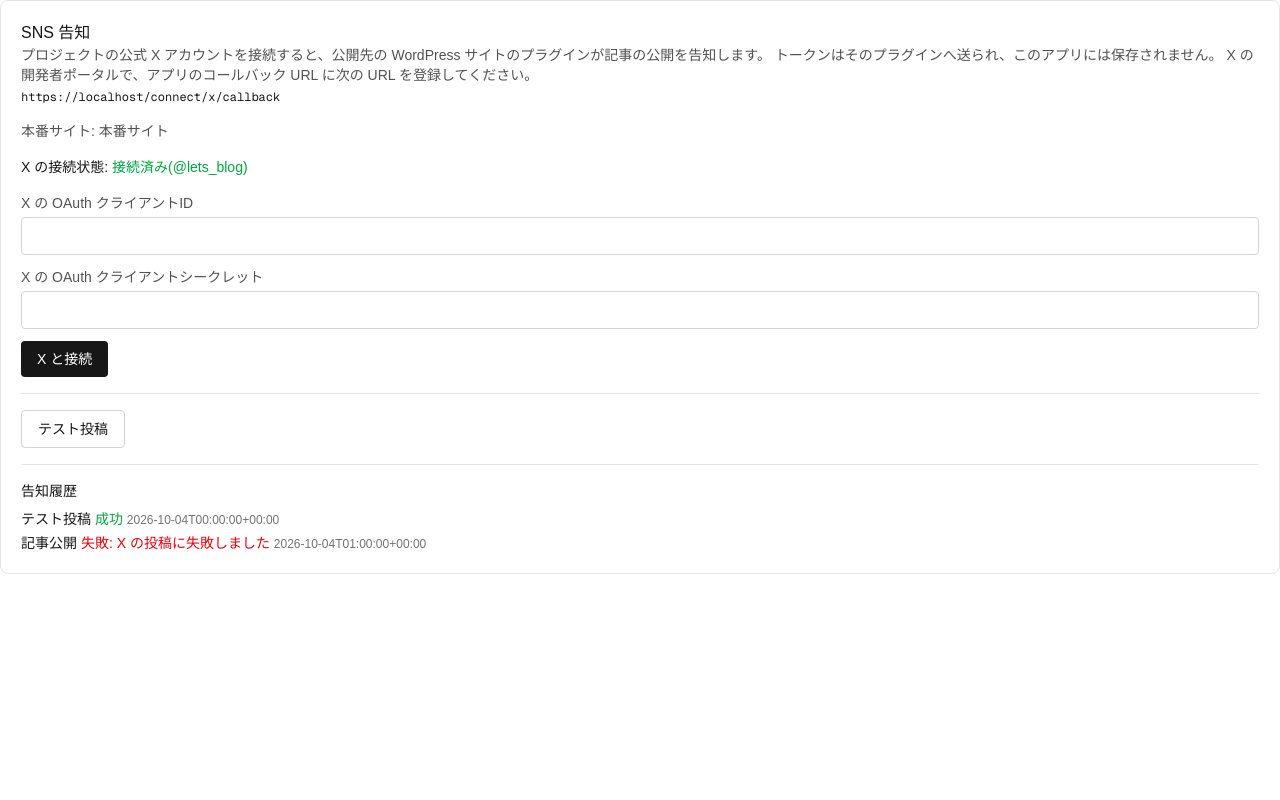
Test case: ProjectSnsXSection › テスト投稿が失敗したら理由を示す
The width and height of the screenshot is (1280, 800).
Click the button "テスト投稿": (73, 429) [21,410,125,448]
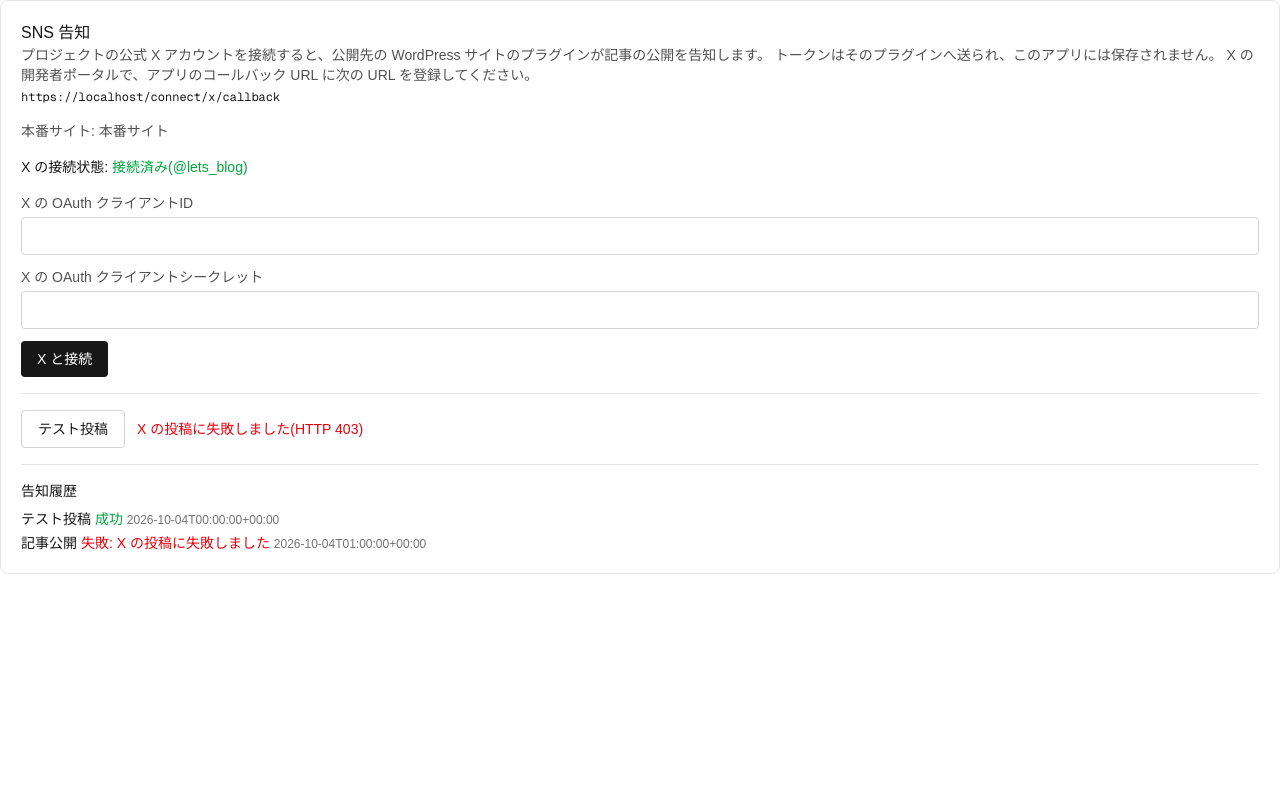
Check: the text "X の投稿に失敗しました(HTTP 403)" is shown, box [137,419,363,439]
